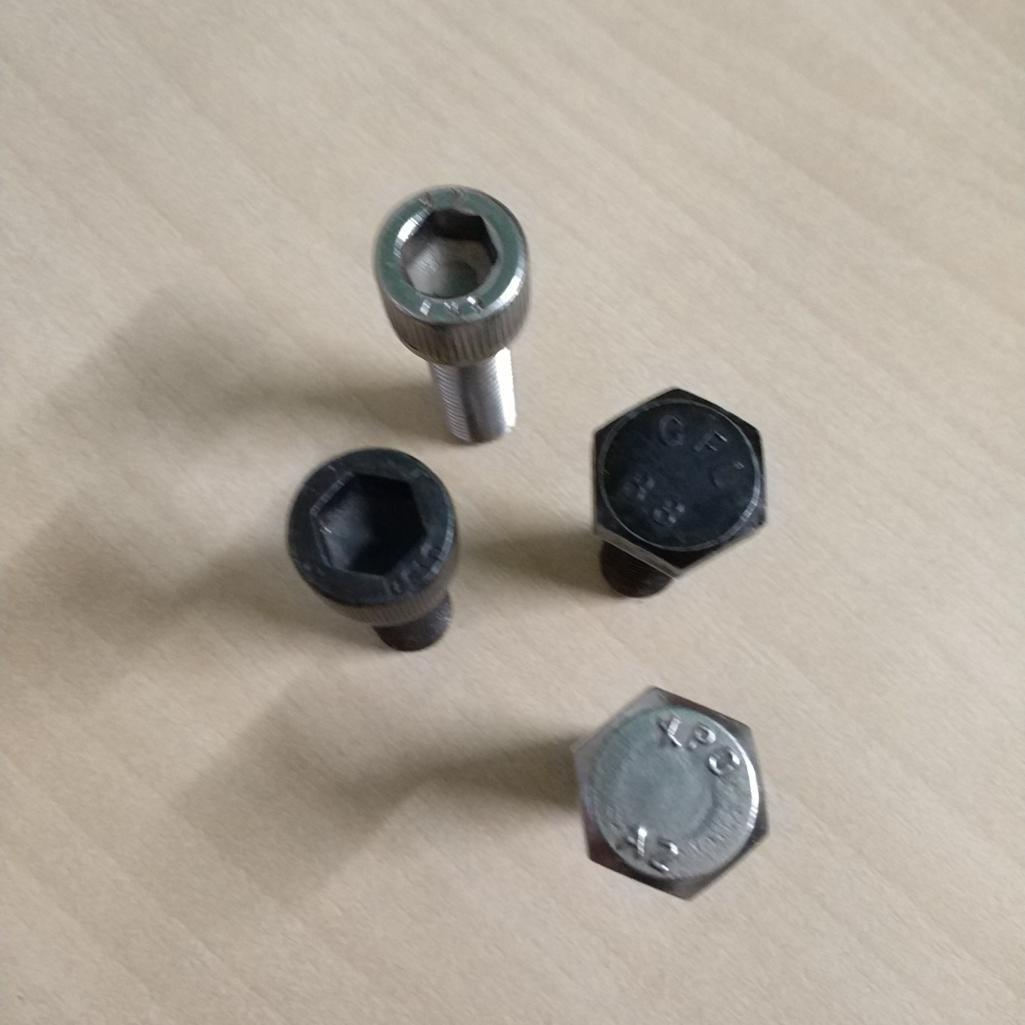screwtype1black: (273, 437, 454, 659)
screwtype1silver: (369, 168, 522, 438)
screwtype2black: (585, 376, 774, 619)
screwtype2silver: (561, 679, 773, 914)
